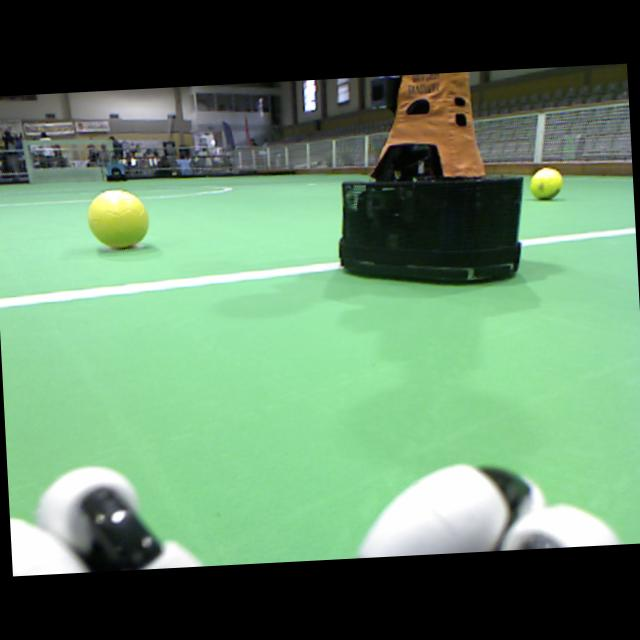ball: (89, 190, 150, 247), (530, 167, 563, 198)
goal: (22, 139, 36, 184)
robot: (340, 73, 523, 282)
